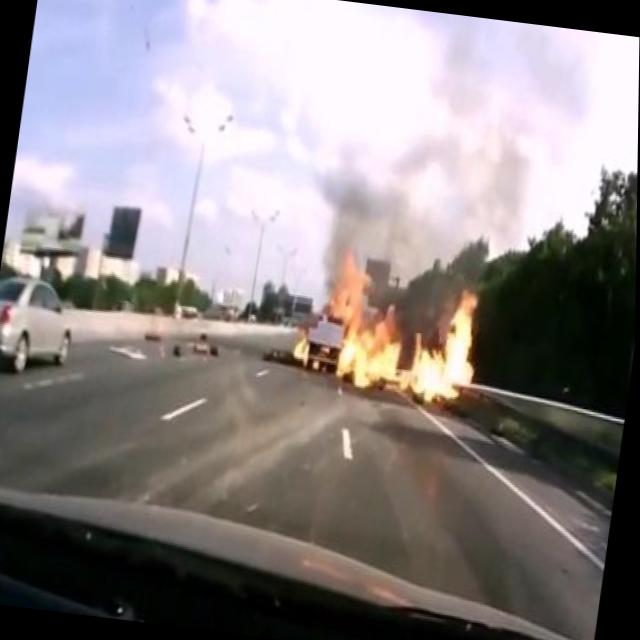fire: (314, 242, 494, 418), (287, 323, 314, 367)
